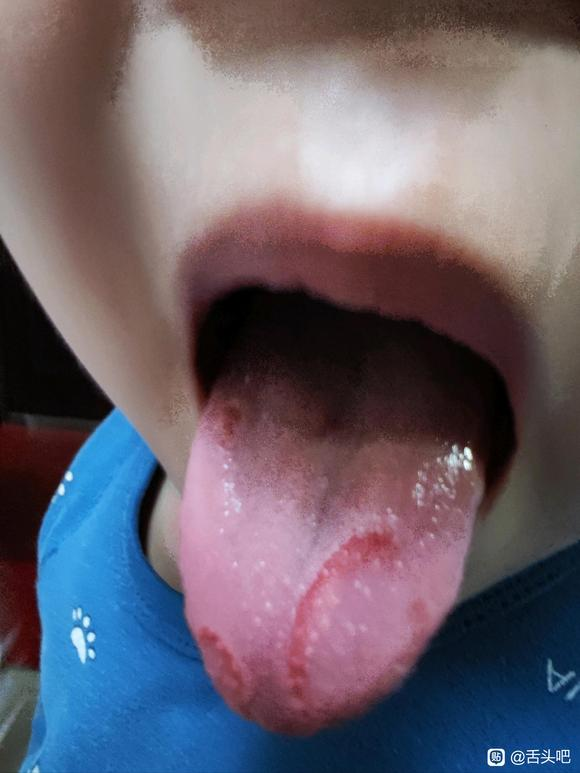baitaishe: (178, 321, 491, 738)
botaishe: (280, 518, 432, 730), (193, 334, 271, 454), (189, 615, 259, 716)
hongshe: (178, 321, 491, 738)
